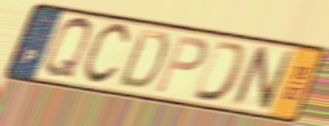C: (79, 22, 132, 88)
D: (189, 38, 251, 105), (115, 27, 171, 92)
N: (228, 44, 298, 113)
P: (152, 33, 210, 96)
Q: (42, 15, 95, 82)
